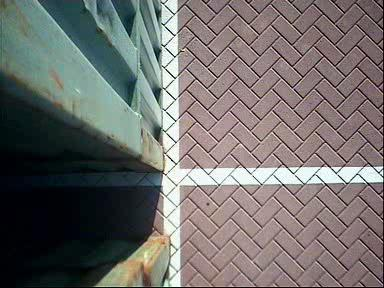groundmarker_2: (80, 72, 143, 97), (84, 246, 147, 271)
